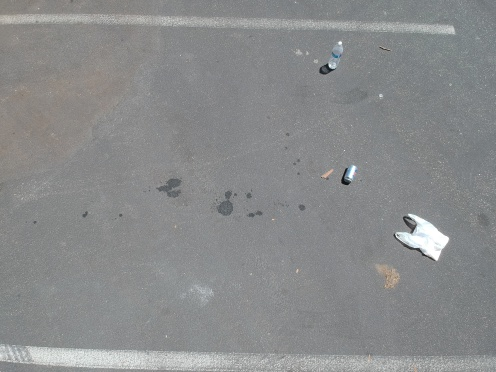bottle: (324, 35, 348, 73)
can: (339, 159, 360, 184)
plastic bag: (393, 208, 452, 265)
